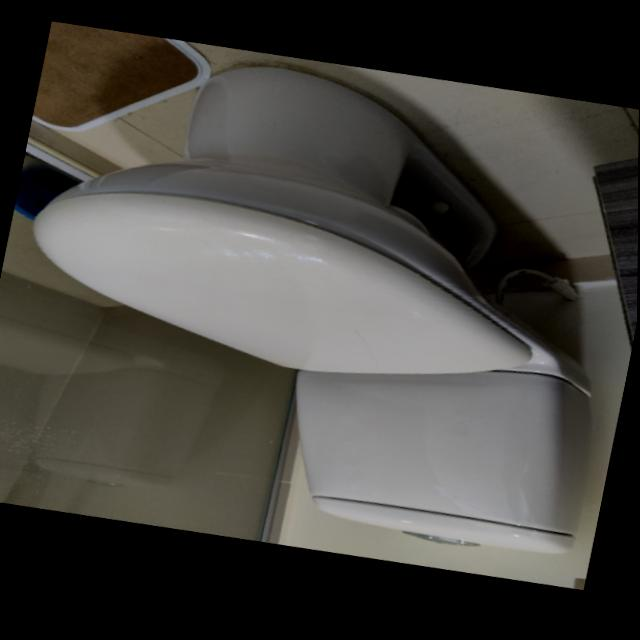toilet: (0, 17, 640, 587)
